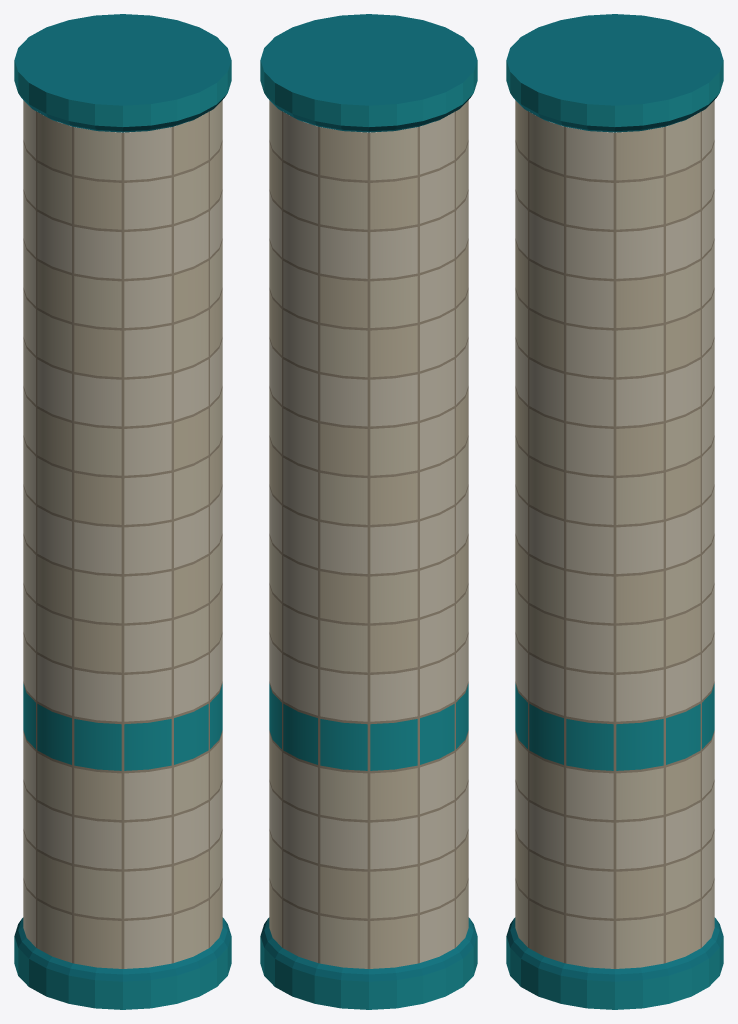
The model's file is tile_pillar.glb.
3 views of the same model, side by side, from view 1: azimuth 30°, elevation 25°; view 2: azimuth 150°, elevation 25°; view 3: azimuth 270°, elevation 25° (orthographic).
Visible parts, largest first — view 1: TilePillar; view 2: TilePillar; view 3: TilePillar.
Part boxes in pixels (left/top/right/bottom): TilePillar: left=14, top=14, right=231, bottom=1009; TilePillar: left=260, top=14, right=477, bottom=1009; TilePillar: left=506, top=14, right=723, bottom=1009.
Size of the model in its own units: 1.74 by 8 by 1.74.
